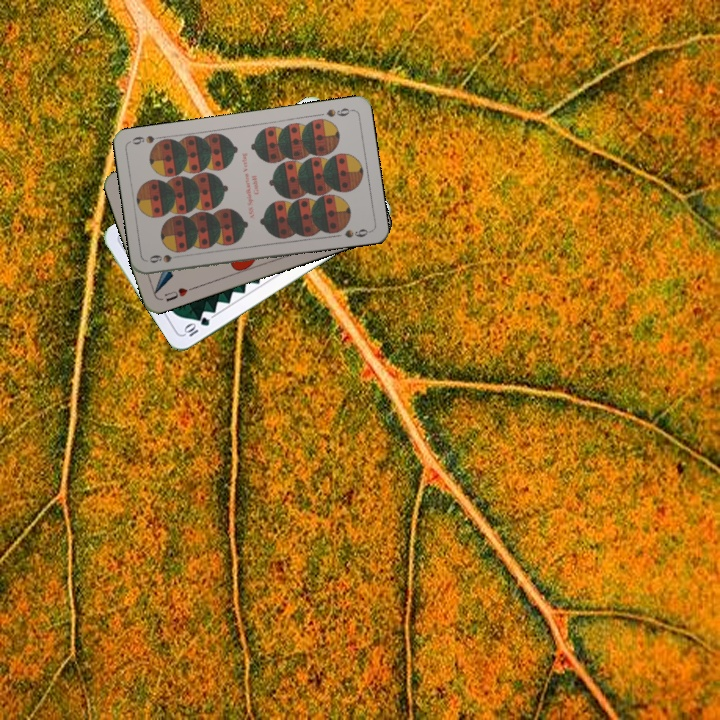G10: (180, 313, 212, 339)
HU: (161, 283, 197, 304)
S9: (145, 250, 185, 266), (322, 104, 355, 120)
